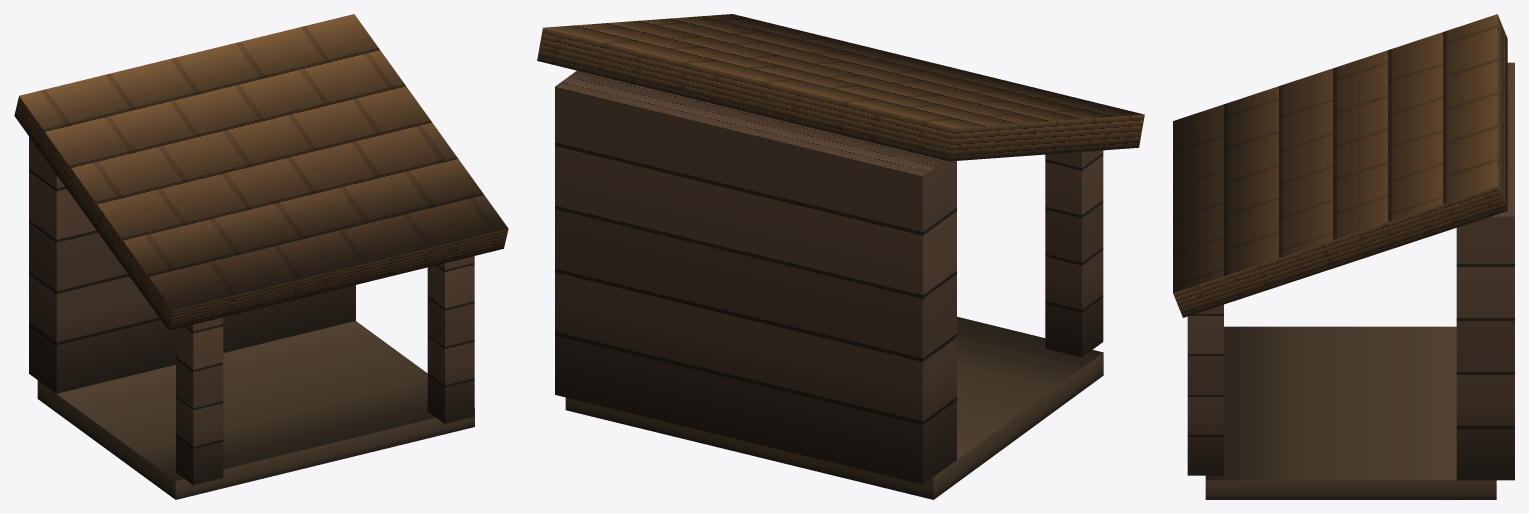
The model's file is lean_to.gltf.
The picture shows the model from 3 angles, left to right: view 1: azimuth 30°, elevation 25°; view 2: azimuth 150°, elevation 25°; view 3: azimuth 270°, elevation 25°; orthographic projection. The views are drawn at different scales.
Parts seen in each view (by area): view 1: lean_to; view 2: lean_to; view 3: lean_to.
Boxes of the visible parts, left/top/right/bottom form: lean_to: left=14, top=14, right=508, bottom=499; lean_to: left=537, top=14, right=1144, bottom=499; lean_to: left=1173, top=14, right=1514, bottom=499.
Bounding box in the file's own units: 1.12 × 0.98 × 0.94.
Materials: 1 (1 with a texture image).
